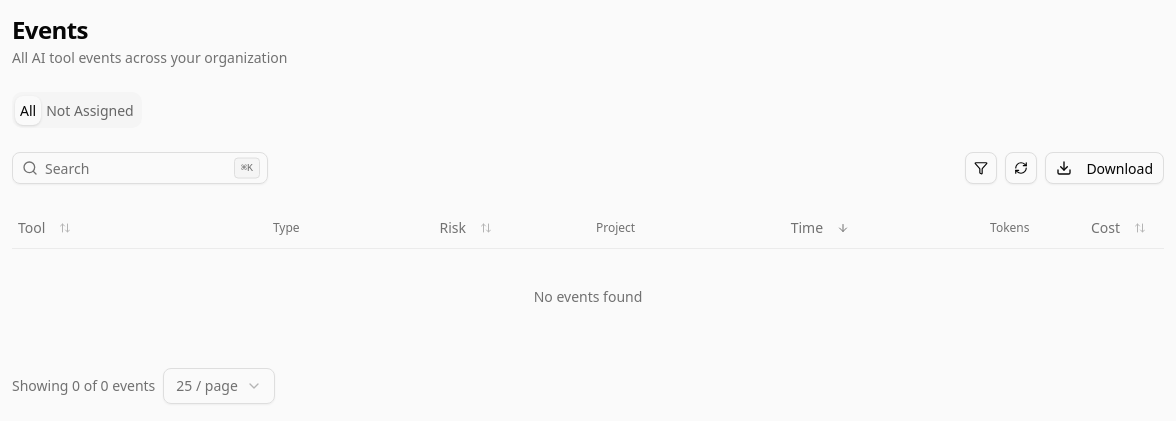
it: Events page User filter gating › shows the User filter sub-menu for an org owner
Click the button named "filter".
click(981, 168)  # box [965,152,997,184]
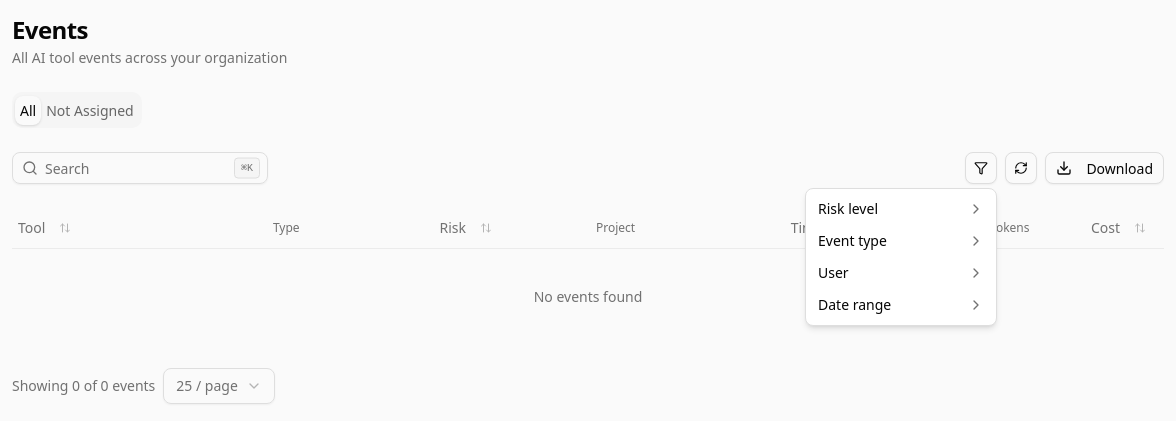
Check: the menu item "User" is shown, box [818,263,984,282]
